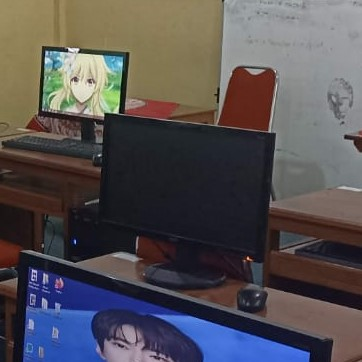monitor: (14, 249, 332, 358), (97, 112, 276, 286), (36, 45, 130, 139)
